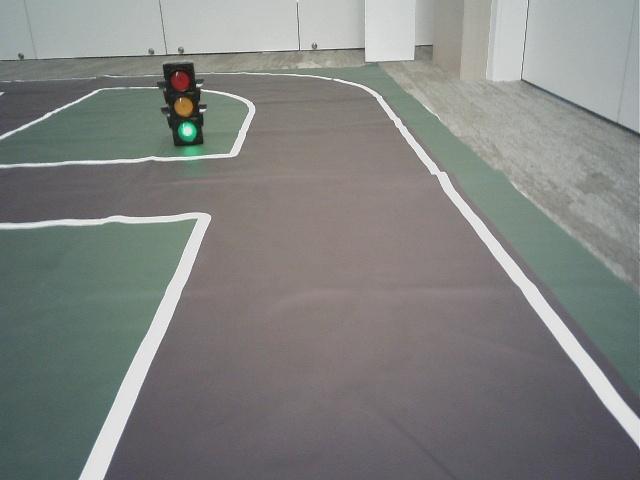green: (165, 68, 199, 144)
